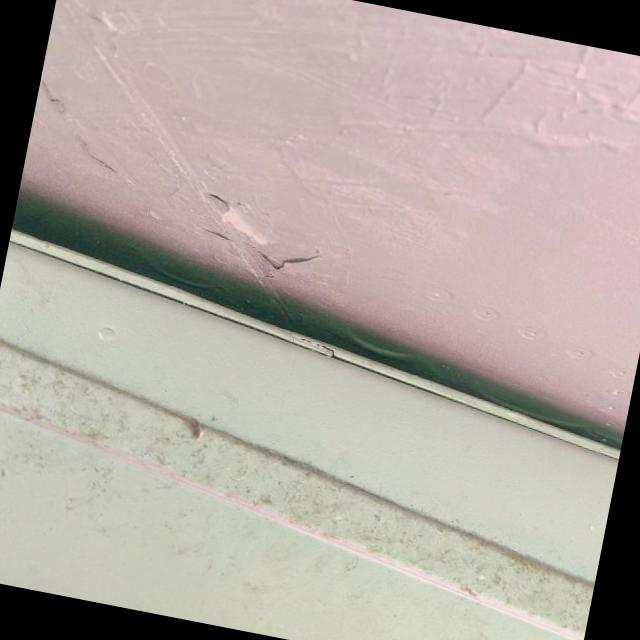paint-off: (180, 178, 336, 288)
